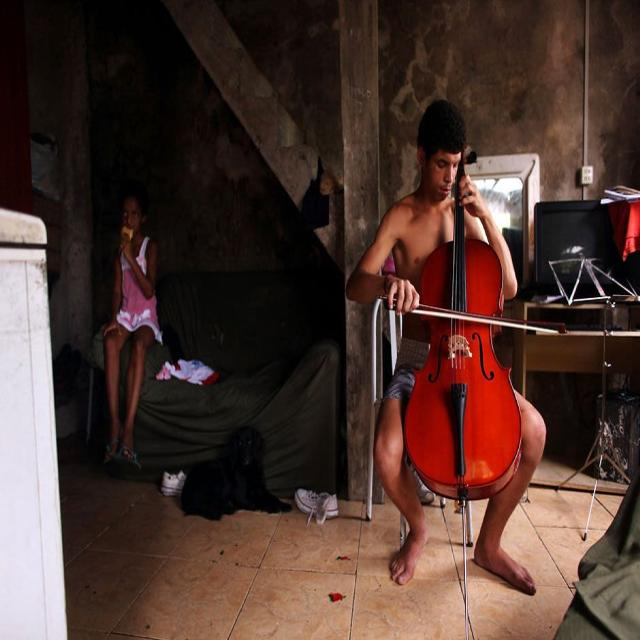cello: (403, 145, 524, 504)
